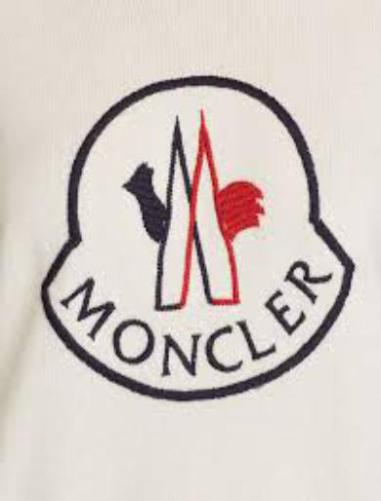MONCLER: (118, 109, 266, 314)
